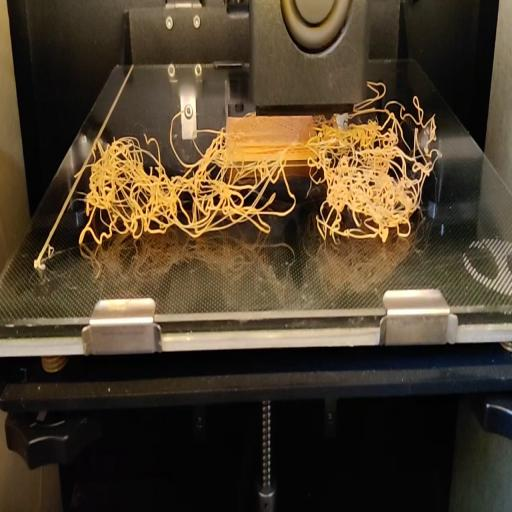spaghetti: (74, 113, 442, 257), (363, 81, 421, 108)
